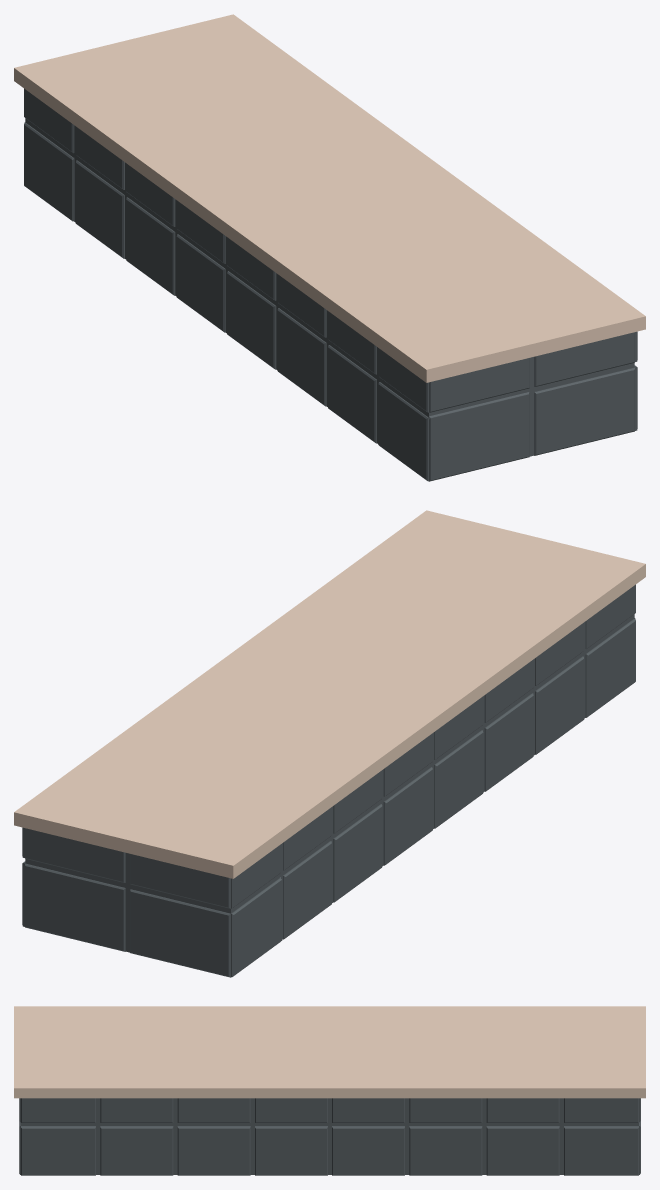
Rendered from STM_KitchenTable.fbx.
3 views of the same model, one above another, from view 1: azimuth 30°, elevation 25°; view 2: azimuth 150°, elevation 25°; view 3: azimuth 270°, elevation 25° (orthographic). The views are drawn at different scales.
Parts seen in each view (by area): view 1: pCube60; view 2: pCube60; view 3: pCube60.
Part boxes in pixels (x1,y1,x2,y2): pCube60: [14, 14, 645, 481]; pCube60: [14, 510, 645, 977]; pCube60: [14, 1006, 645, 1175].
Size of the model in its own units: 1.55 by 0.7849 by 5.04.
